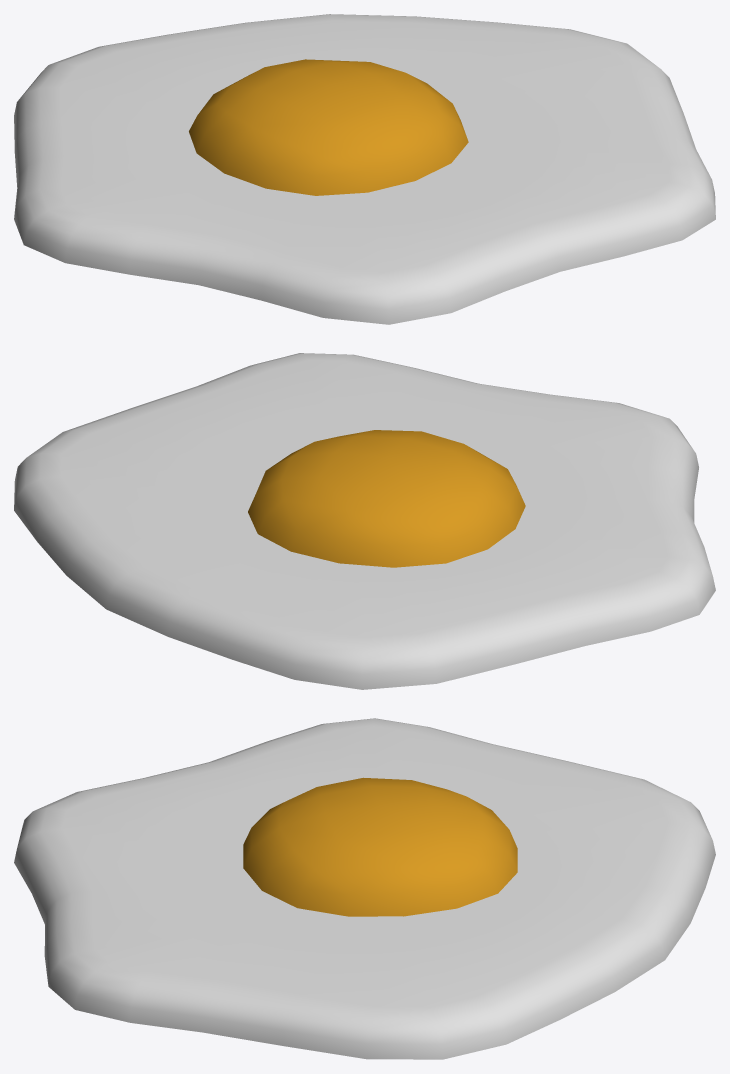
Rendered from Egg.fbx.
3 views of the same model, one above another, from view 1: azimuth 30°, elevation 25°; view 2: azimuth 150°, elevation 25°; view 3: azimuth 270°, elevation 25° (orthographic). The views are drawn at different scales.
Visible parts, largest first — view 1: Egg; view 2: Egg; view 3: Egg.
Part boxes in pixels (bbox=[...]): Egg: bbox=[14, 14, 715, 324]; Egg: bbox=[14, 353, 715, 689]; Egg: bbox=[14, 718, 715, 1059].
Bounding box in the file's own units: 25.67 × 3.16 × 23.62.
